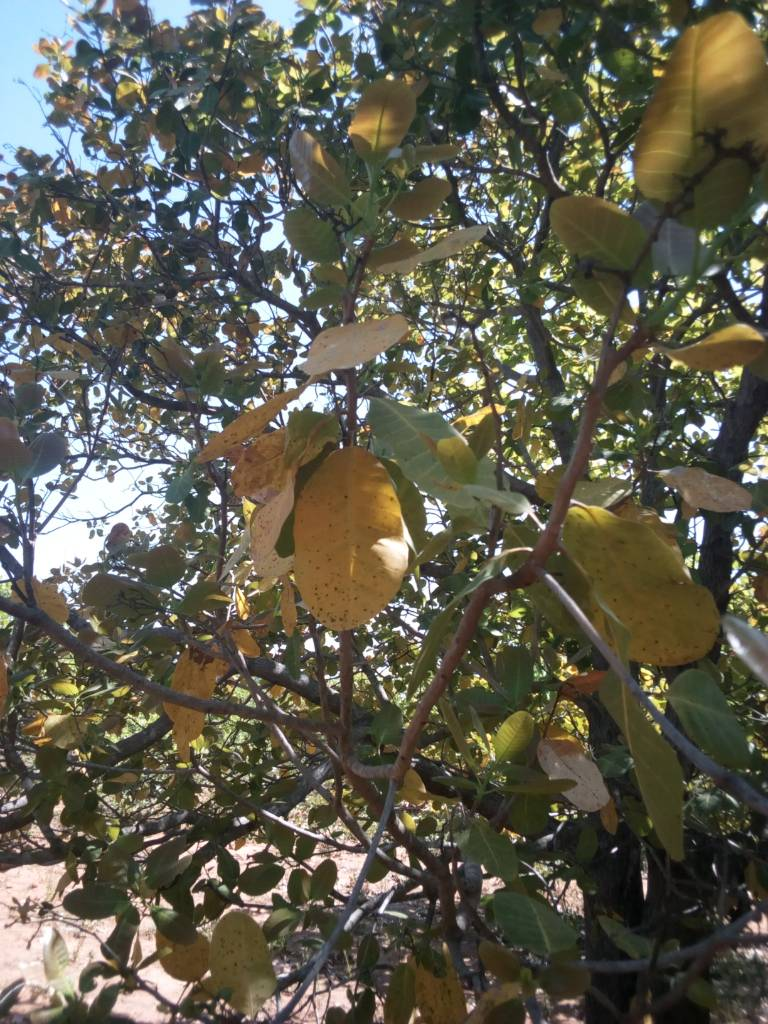Anthracnose: (561, 499, 722, 667), (299, 449, 404, 632)
